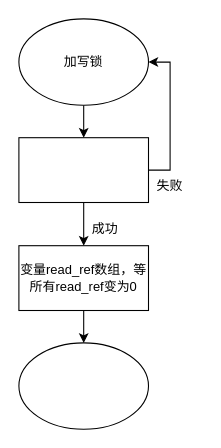
The diagram is 221 pixels wide and 448 high, and some of its shapes have lost their labels. The centre of each missing label's shape, as x and y in pixels:
"加写锁成功" goes at pixel 83 385.
"用CAS指令把write_id从0改为1" goes at pixel 83 169.
